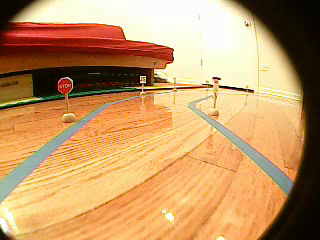Red Traffic Light: (58, 78, 73, 93), (211, 76, 222, 95)
